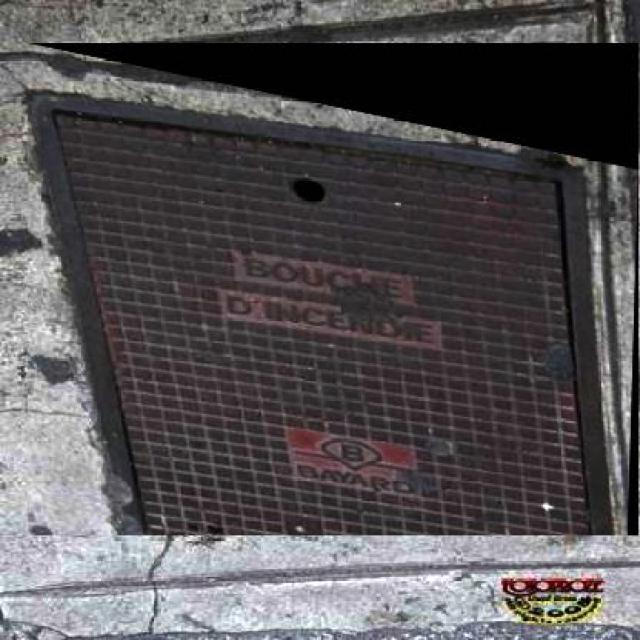Manhole: (27, 44, 638, 536)
